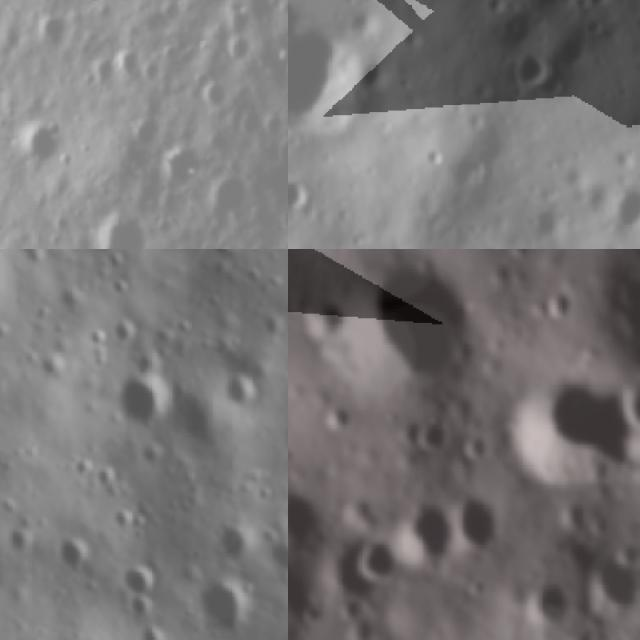crater: (288, 6, 398, 169), (350, 256, 481, 390), (511, 363, 634, 498), (582, 544, 640, 620), (500, 42, 565, 107), (343, 49, 407, 114), (592, 171, 640, 249), (545, 24, 606, 85), (444, 489, 500, 554), (197, 573, 251, 640), (504, 0, 595, 37), (399, 502, 454, 562), (520, 573, 576, 628), (115, 374, 169, 428), (15, 118, 71, 169), (152, 144, 208, 195), (353, 532, 402, 582), (202, 170, 248, 220), (220, 370, 266, 418), (288, 170, 323, 230), (219, 518, 260, 565), (48, 531, 88, 579), (79, 51, 120, 96), (111, 562, 166, 595), (94, 218, 151, 249), (31, 10, 69, 54), (288, 492, 320, 543), (414, 410, 451, 451), (413, 138, 451, 177), (308, 297, 346, 335), (130, 112, 167, 149), (110, 42, 146, 80), (222, 36, 255, 68), (203, 79, 231, 113)
